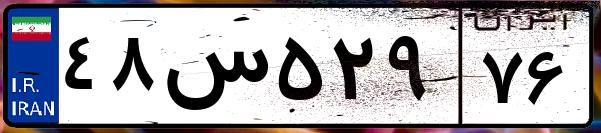2: (330, 28, 385, 110)
4: (57, 26, 110, 100)
5: (270, 28, 330, 110)
6: (525, 38, 570, 115)
7: (475, 38, 525, 113)
8: (110, 28, 158, 98)
9: (385, 28, 445, 110)
س: (158, 20, 270, 120)
